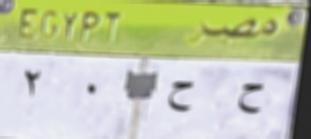0: (79, 77, 99, 105)
2: (14, 66, 50, 101)
7aa: (162, 77, 205, 120), (232, 78, 267, 118)
